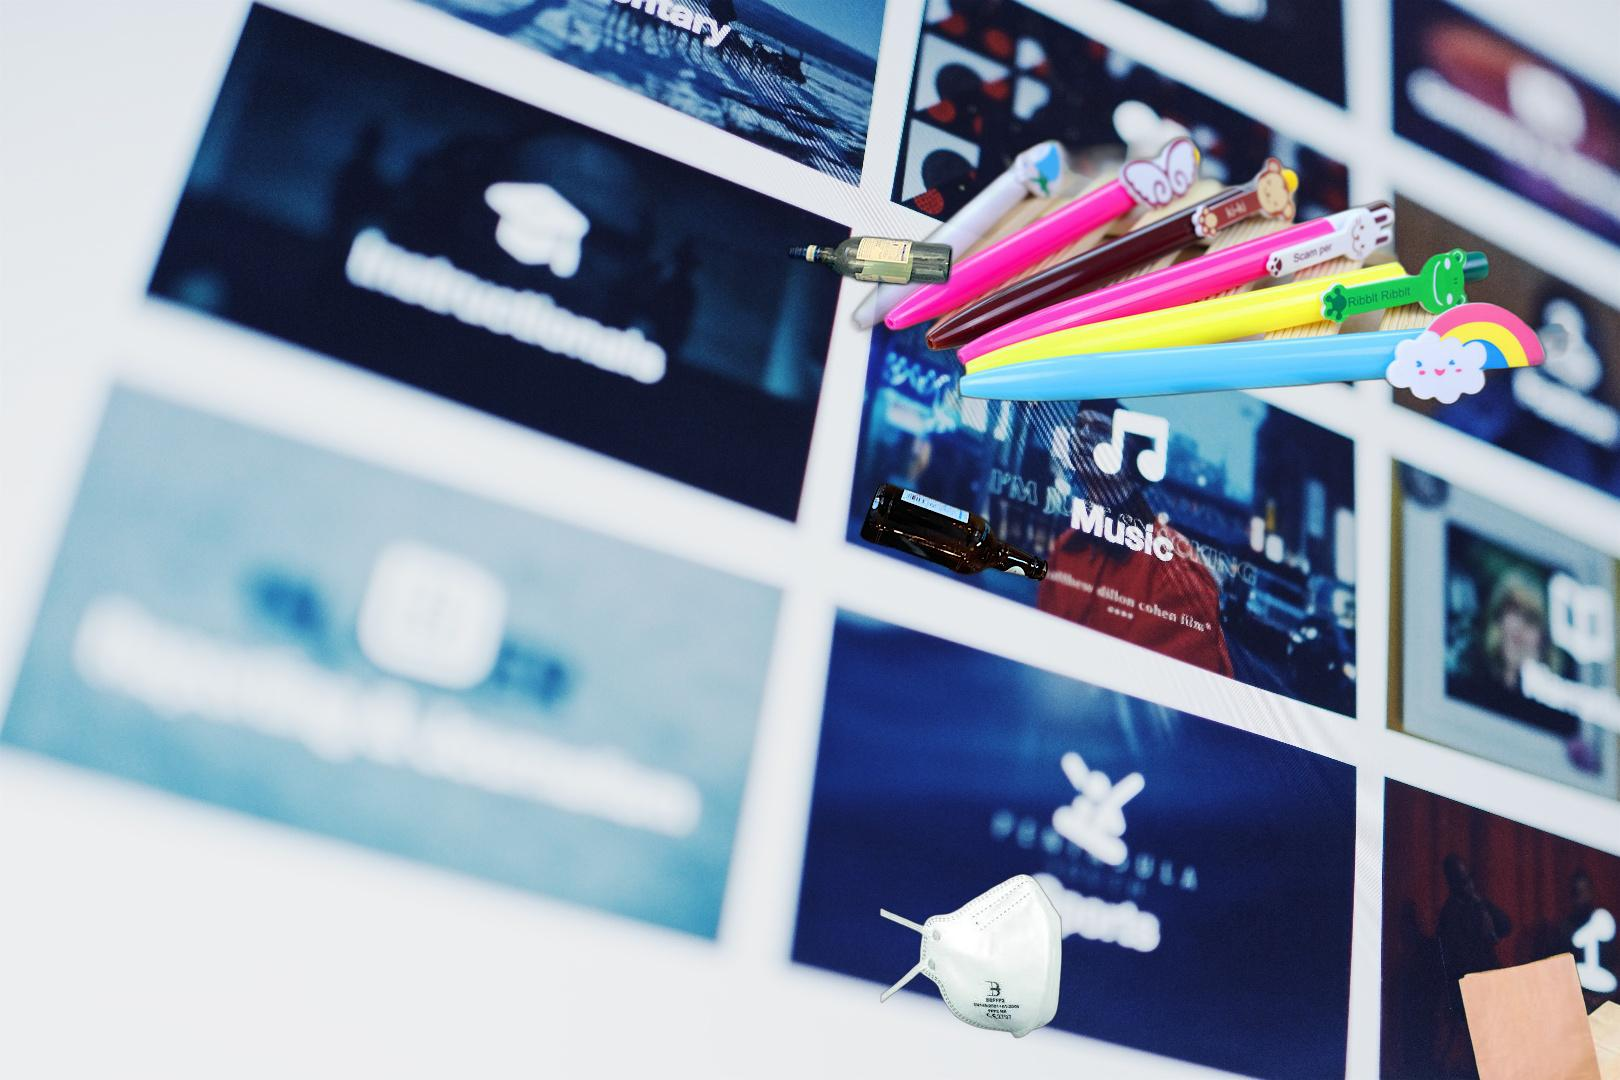glass: (856, 477, 1053, 587), (783, 231, 957, 290)
paper-bag: (1452, 947, 1620, 1080)
penholder: (844, 133, 1580, 407)
trash: (877, 871, 1066, 1041)
